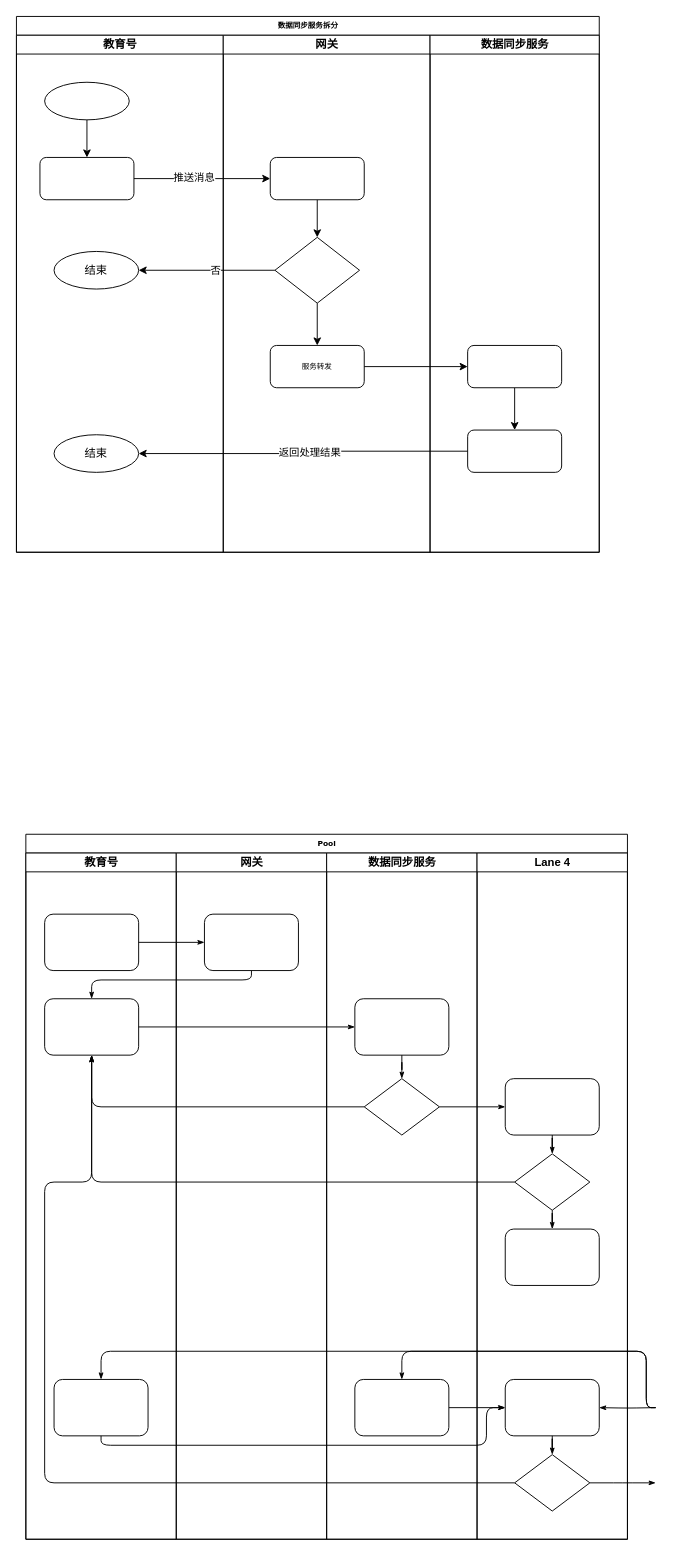
This 679x1556 diagram has some shape labels left out. Each missing label, with the centre of its shape:
同步业务处理: the point at 514,366
处理结果: the point at 514,450
应用是否有效: the point at 317,269
开始: the point at 86,100
拦截校验: the point at 316,178
数据变更: the point at 86,178
